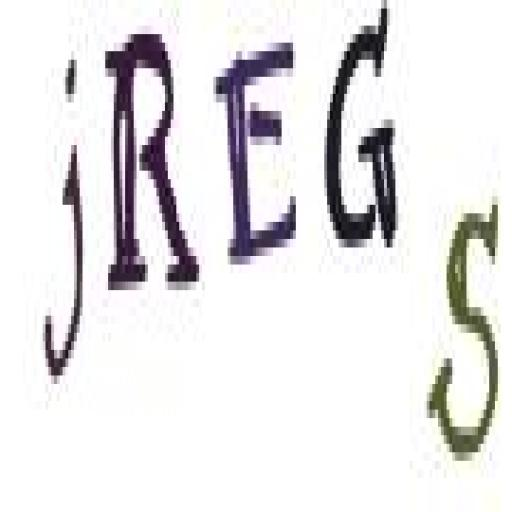E: (215, 34, 304, 268)
G: (316, 1, 402, 268)
R: (101, 18, 203, 308)
j: (39, 44, 89, 395)
s: (429, 192, 509, 483)
